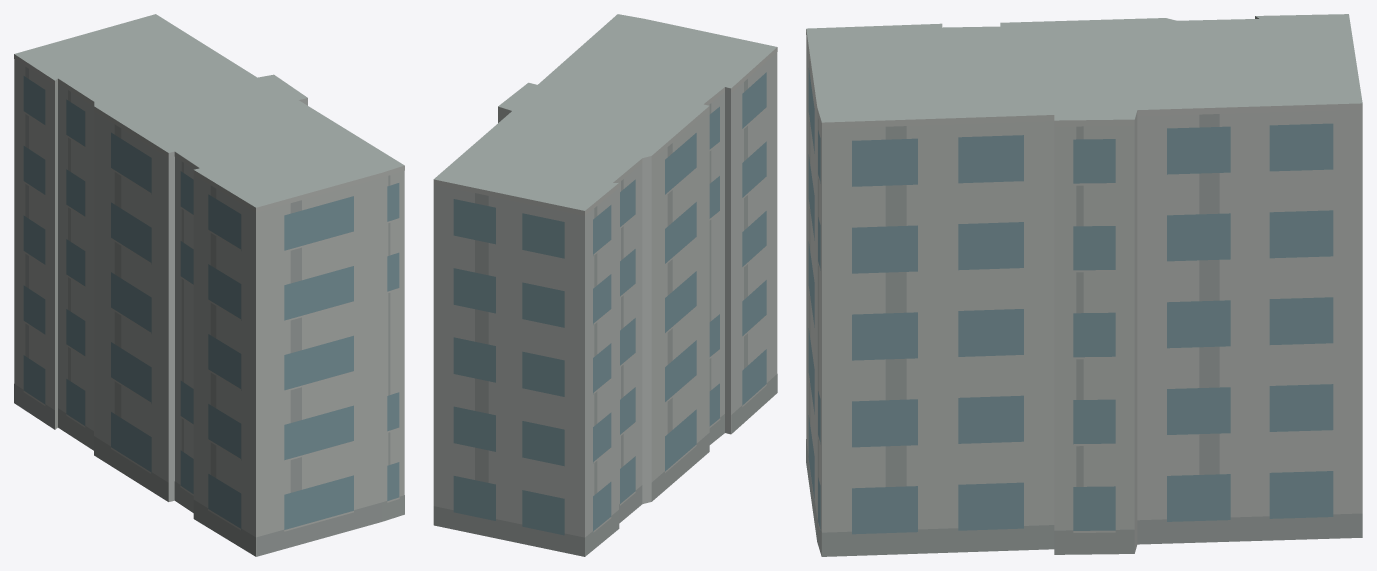
Rendered from survey-upis-32738833.glb.
3 views of the same model, side by side, from view 1: azimuth 30°, elevation 25°; view 2: azimuth 150°, elevation 25°; view 3: azimuth 270°, elevation 25° (orthographic). The views are drawn at different scales.
Parts seen in each view (by area): view 1: survey-upis-32738833.tmp; view 2: survey-upis-32738833.tmp; view 3: survey-upis-32738833.tmp.
Part boxes in pixels (x1,y1,x2,y2): survey-upis-32738833.tmp: (14,14,404,556); survey-upis-32738833.tmp: (433,14,777,556); survey-upis-32738833.tmp: (806,14,1362,556).
Bounding box in the file's own units: 9.01 × 16.8 × 19.52.
